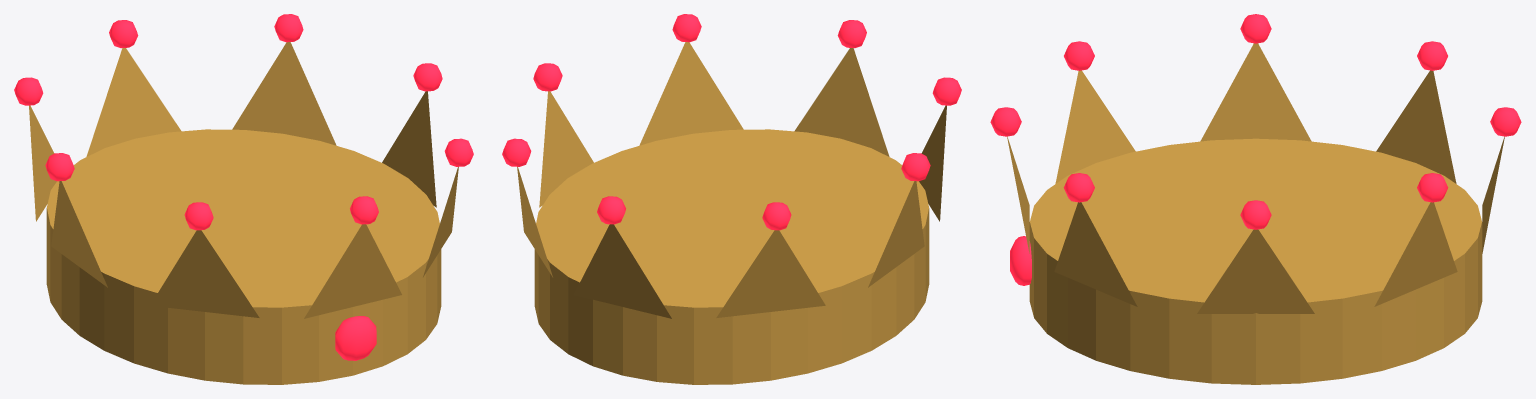
The model's file is crown.glb.
3 renders of one model, left to right at view 1: azimuth 30°, elevation 25°; view 2: azimuth 150°, elevation 25°; view 3: azimuth 270°, elevation 25°, orthographic. The views are drawn at different scales.
Visible parts, largest first — view 1: crown; view 2: crown; view 3: crown.
Part boxes in pixels (x1,y1,x2,y2): crown: (14, 14, 473, 384); crown: (502, 14, 961, 384); crown: (990, 14, 1521, 384).
Bounding box in the file's own units: 0.2401 × 0.109 × 0.27.
